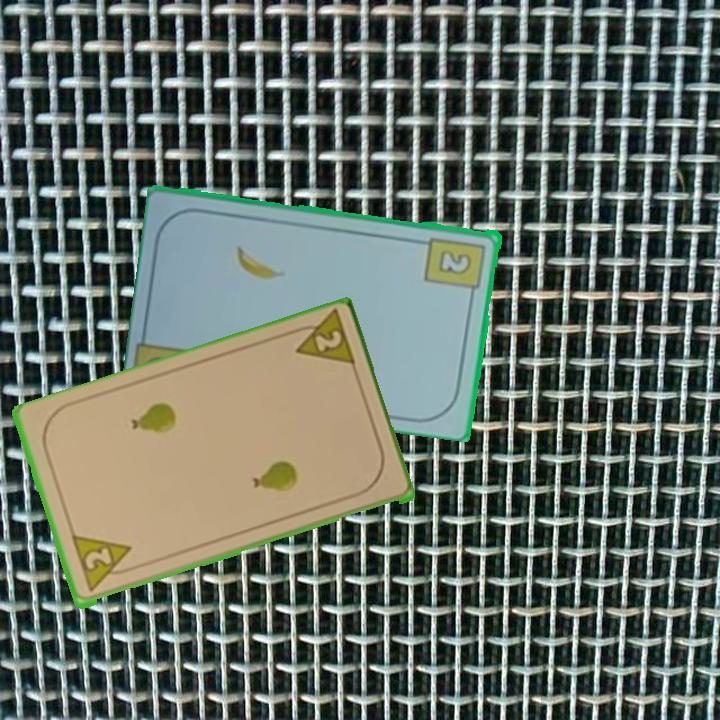2b: (422, 233, 489, 301)
2p: (284, 309, 359, 372), (68, 533, 139, 595)
